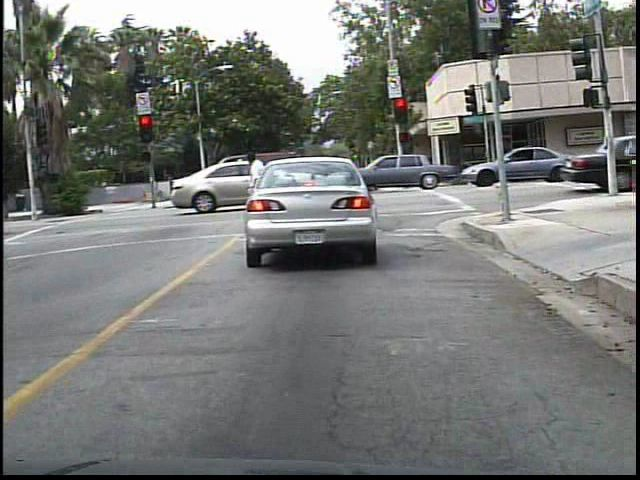person: (235, 150, 273, 229)
